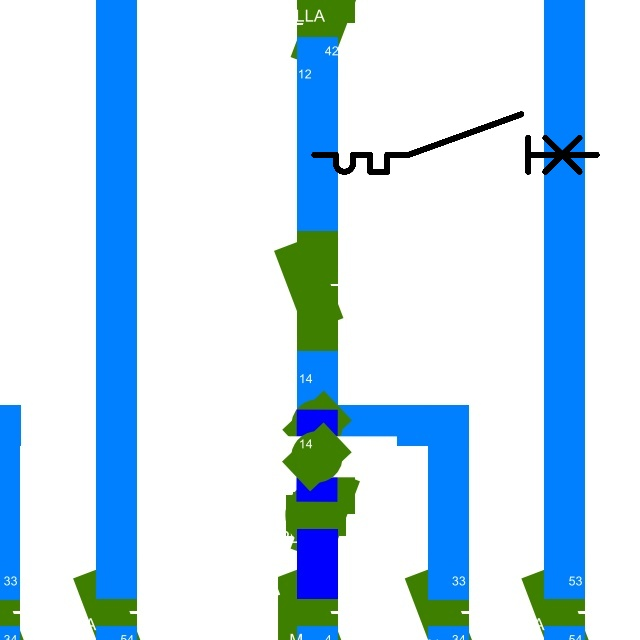interruptor_termomagnetico: (307, 107, 604, 179)
